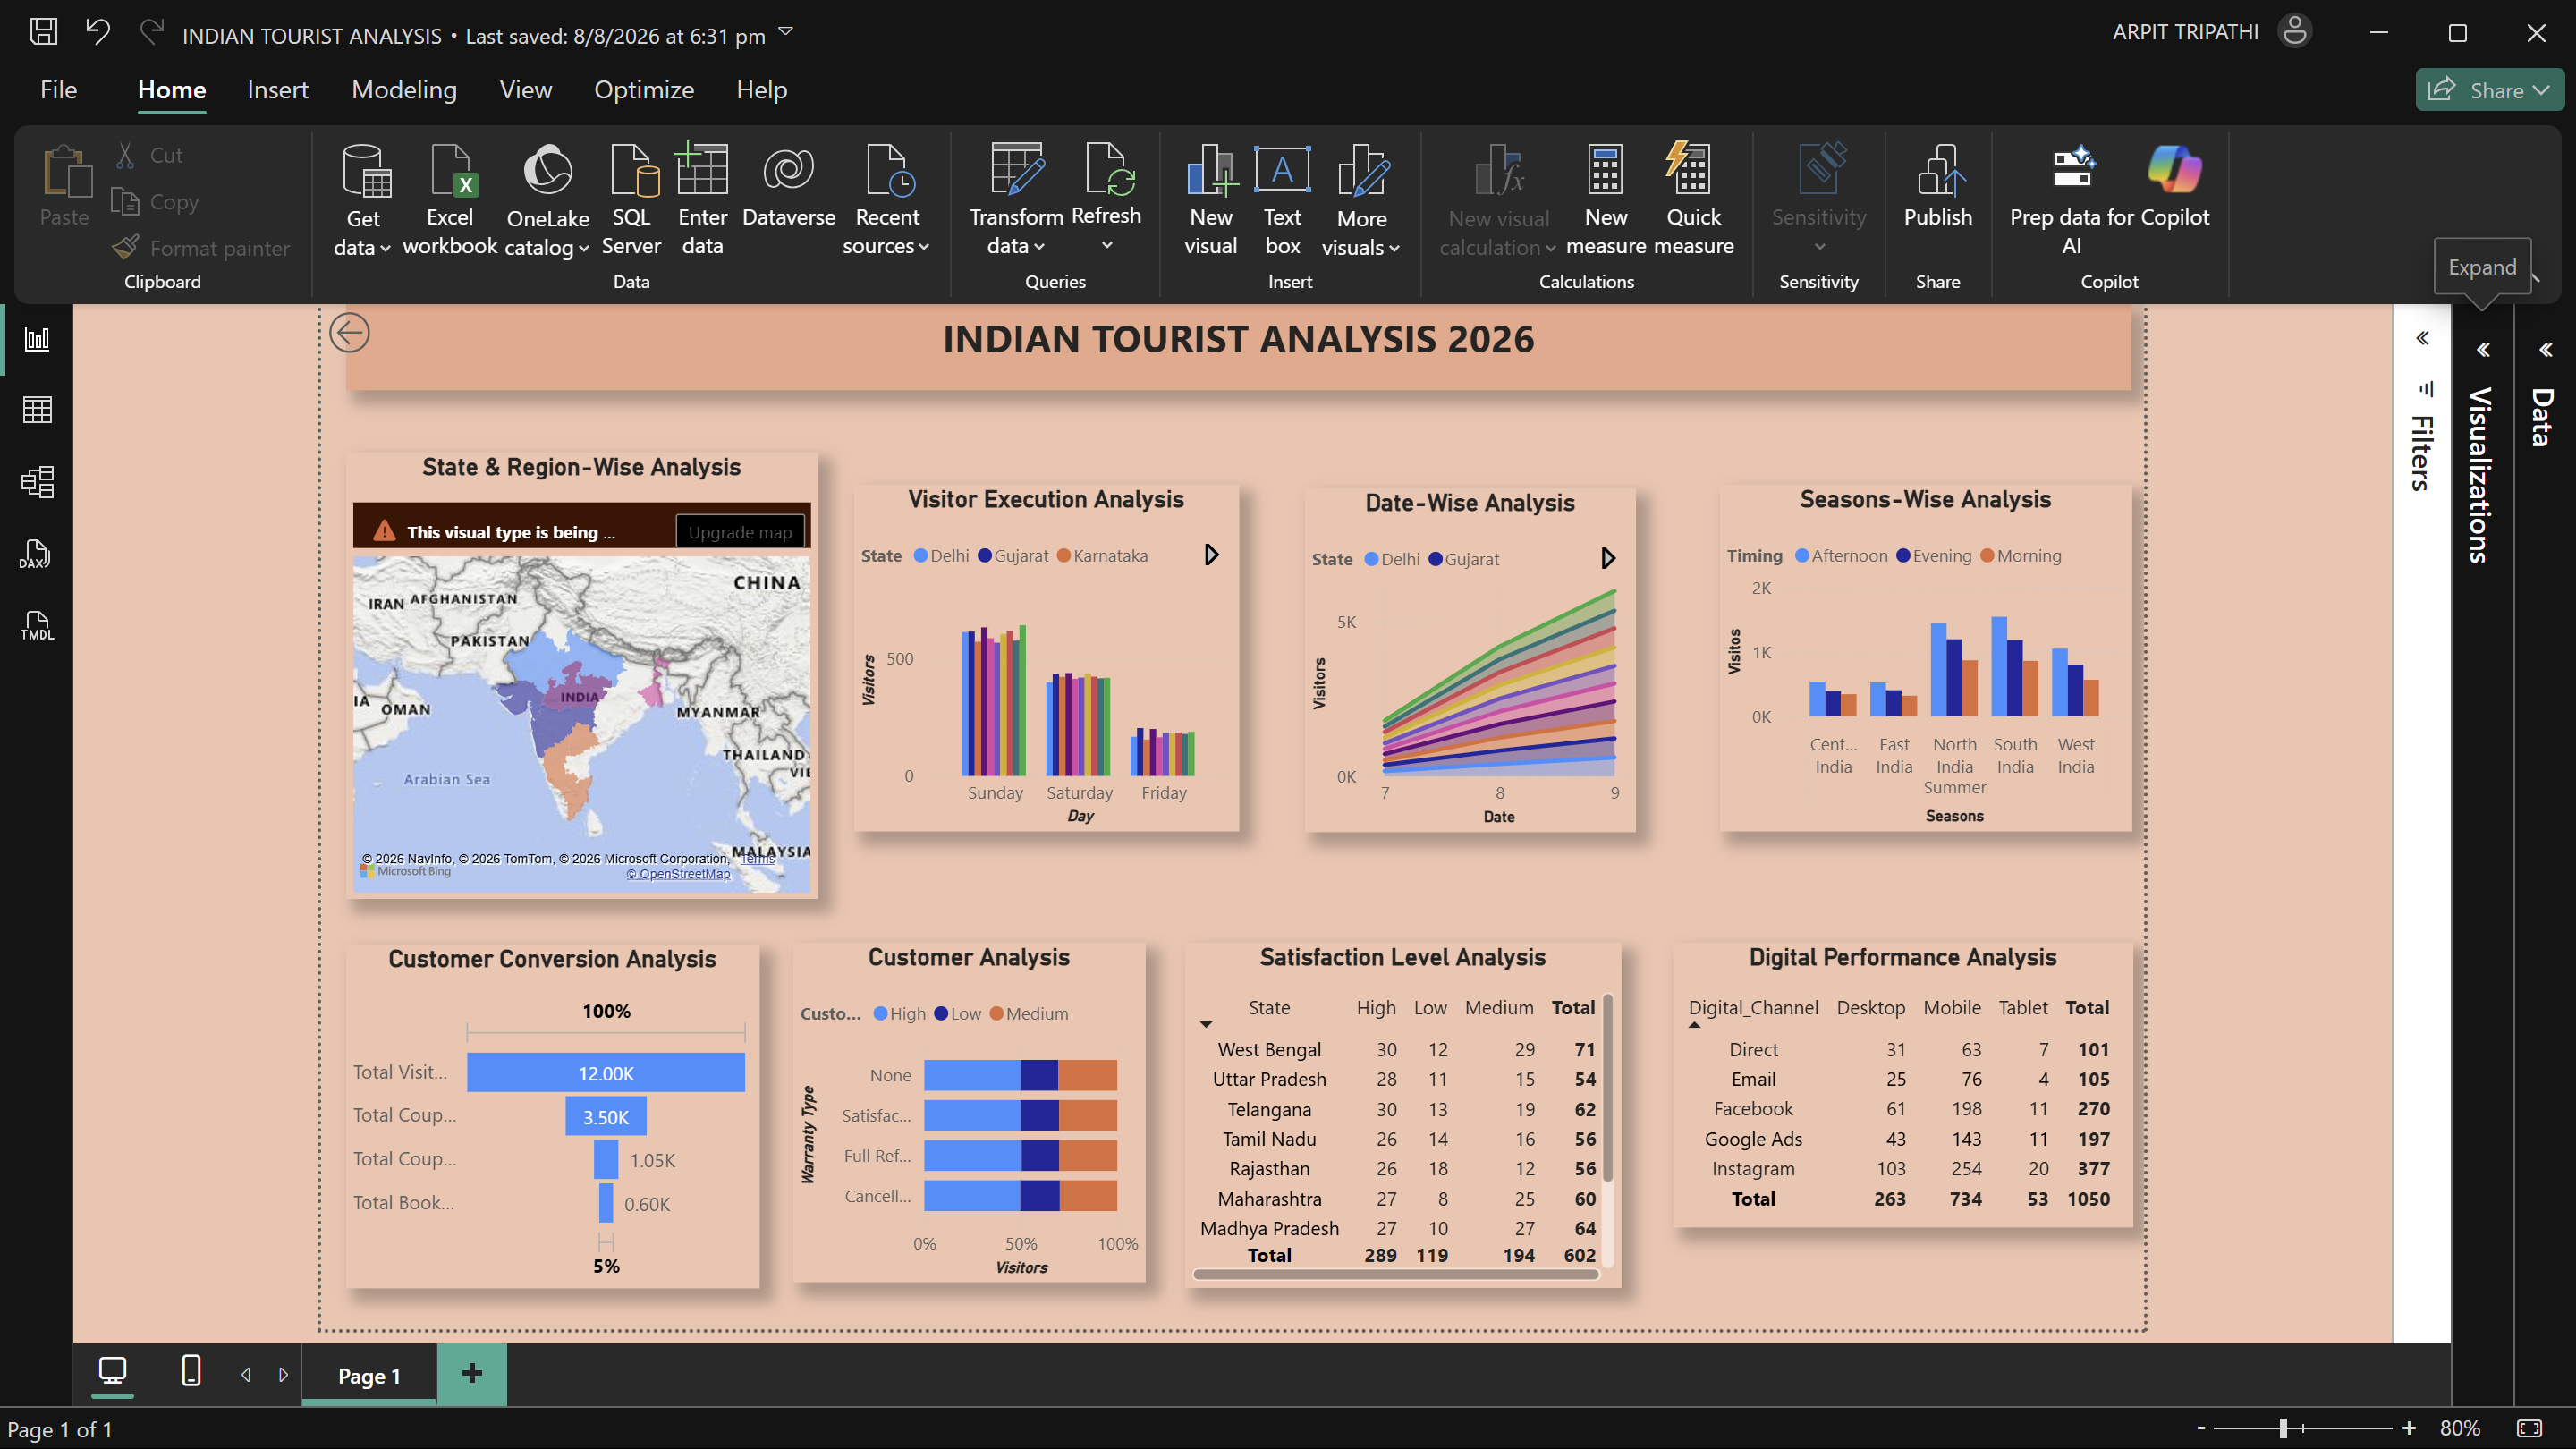

The page's visual inventory and layout, read from the dashboard file:
{"tool":"powerbi","page":{"name":"Page 1","canvas":[1280,720],"ordinal":0},"visuals":[{"type":"textbox","box":[17.8,0,1254,60.3],"z":0},{"type":"lineClusteredColumnComboChart","title":"Visitor Execution Analysis","fields":{"Category":["visitors_powerbi_comprehensive_12000_2.Day"],"Series":["visitors_with_time_slot.State"],"Y":["CountNonNull(visitors_powerbi_comprehensive_12000_2.Visitor_ID)"]},"box":[374.8,127.5,270.3,243.5],"z":1000},{"type":"pivotTable","title":"Digital Performance Analysis","fields":{"Columns":["visitors_powerbi_comprehensive_12000_2.Device_Type"],"Rows":["visitors_powerbi_comprehensive_12000_2.Digital_Channel"],"Values":["Sum(visitors_with_time_slot.Coupon_Redeemed)"]},"box":[949.8,448.8,322.9,199.8],"z":2000},{"type":"hundredPercentStackedBarChart","title":"Customer Analysis","fields":{"Category":["visitors_powerbi_comprehensive_12000_2.Warranty_Type"],"Series":["visitors_powerbi_comprehensive_12000_2.Customer_Satisfaction"],"Y":["CountNonNull(visitors_powerbi_comprehensive_12000_2.Visitor_ID)"]},"box":[331.5,448.8,247.5,238.7],"z":4000},{"type":"funnel","title":"Customer Conversion Analysis","fields":{"Y":["CountNonNull(visitors_powerbi_comprehensive_12000_2.Visitor_ID)","Sum(visitors_powerbi_comprehensive_12000_2.Coupon_Issued)","Sum(visitors_powerbi_comprehensive_12000_2.Coupon_Redeemed)","Sum(visitors_powerbi_comprehensive_12000_2.Booking_Status)"]},"box":[17.8,450,290.3,241.3],"z":5000},{"type":"pivotTable","title":" Satisfaction Level Analysis","fields":{"Columns":["visitors_with_time_slot.Customer_Satisfaction"],"Rows":["visitors_with_time_slot.State"],"Values":["Sum(visitors_with_time_slot.Booking_Status)"]},"box":[606.9,448.8,306.6,242.5],"z":6000},{"type":"stackedAreaChart","title":" Date-Wise Analysis","fields":{"Category":["visitors_with_time_slot.Date.Variation.Date Hierarchy.Year","visitors_with_time_slot.Date.Variation.Date Hierarchy.Quarter","visitors_with_time_slot.Date.Variation.Date Hierarchy.Month","visitors_with_time_slot.Date.Variation.Date Hierarchy.Day"],"Series":["visitors_with_time_slot.State"],"Y":["CountNonNull(visitors_with_time_slot.Visitor_ID)"]},"box":[691,130,232.5,241.3],"z":7000},{"type":"filledMap","title":"State & Region-Wise Analysis","fields":{"Category":["visitors_with_time_slot.State"],"Series":["visitors_with_time_slot.Region_Direction"]},"box":[17.8,104.5,331.5,313.6],"z":8000},{"type":"actionButton","box":[0,0,100,40],"z":9000},{"type":"clusteredColumnChart","title":"Seasons-Wise Analysis","fields":{"Category":["visitors_with_time_slot.Season","visitors_with_time_slot.Region_Direction"],"Series":["visitors_with_time_slot.Time_Slot"],"Y":["CountNonNull(visitors_with_time_slot.Visitor_ID)"]},"box":[982.9,127.5,289.4,243.5],"z":10000}]}

Visuals, with their boxes on the page's 1280x720 design canvas (x1, y1, x2, y2). These are canvas units, not pixel positions in the 2576x1449 screenshot, which may show the page scaled, cropped or inside an application window:
textbox: [x1=18, y1=0, x2=1272, y2=60]
"Visitor Execution Analysis" lineClusteredColumnComboChart: [x1=375, y1=128, x2=645, y2=371]
"Digital Performance Analysis" pivotTable: [x1=950, y1=449, x2=1273, y2=649]
"Customer Analysis" hundredPercentStackedBarChart: [x1=332, y1=449, x2=579, y2=688]
"Customer Conversion Analysis" funnel: [x1=18, y1=450, x2=308, y2=691]
" Satisfaction Level Analysis" pivotTable: [x1=607, y1=449, x2=914, y2=691]
" Date-Wise Analysis" stackedAreaChart: [x1=691, y1=130, x2=924, y2=371]
"State & Region-Wise Analysis" filledMap: [x1=18, y1=104, x2=349, y2=418]
actionButton: [x1=0, y1=0, x2=100, y2=40]
"Seasons-Wise Analysis" clusteredColumnChart: [x1=983, y1=128, x2=1272, y2=371]
